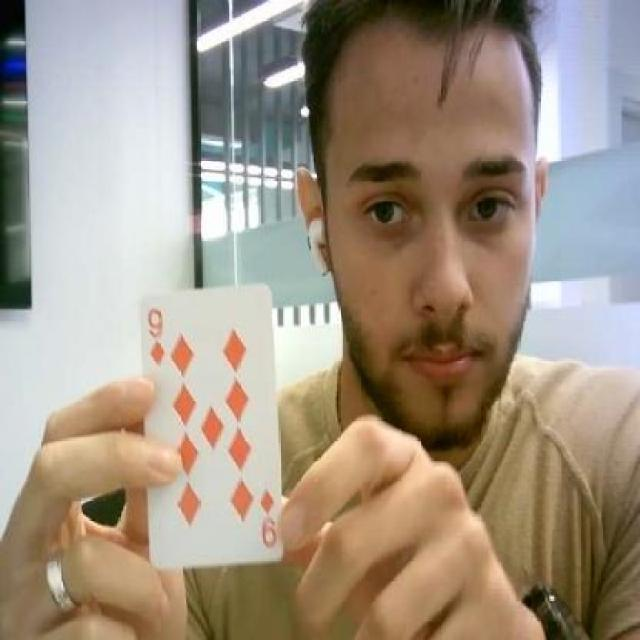9D: (146, 306, 166, 366), (258, 487, 277, 548)
